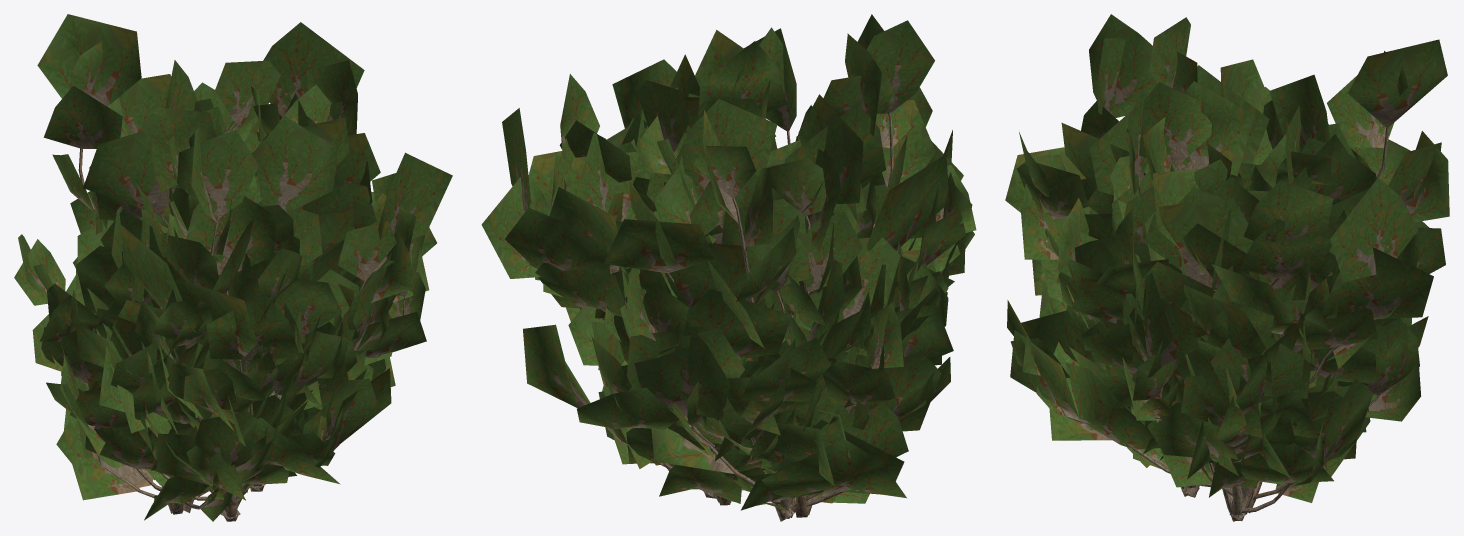
Rendered from lolipop_bush_big_1k.gltf.
3 renders of one model, left to right at view 1: azimuth 30°, elevation 25°; view 2: azimuth 150°, elevation 25°; view 3: azimuth 270°, elevation 25°, orthographic. The views are drawn at different scales.
Visible parts, largest first — view 1: Bush_big_002__LOD0, Bush_big_004__LOD0, Bush_big_005__LOD0, Bush_big_001__LOD0, Bush_big_003__LOD0; view 2: Bush_big_004__LOD0, Bush_big_001__LOD0, Bush_big_002__LOD0, Bush_big_005__LOD0, Bush_big_003__LOD0; view 3: Bush_big_002__LOD0, Bush_big_005__LOD0, Bush_big_001__LOD0, Bush_big_004__LOD0, Bush_big_003__LOD0.
Part boxes in pixels (bbox=[...]): Bush_big_002__LOD0: bbox=[14, 14, 426, 492]; Bush_big_004__LOD0: bbox=[32, 93, 436, 521]; Bush_big_005__LOD0: bbox=[75, 22, 452, 491]; Bush_big_001__LOD0: bbox=[63, 60, 395, 520]; Bush_big_003__LOD0: bbox=[86, 122, 429, 521]; Bush_big_004__LOD0: bbox=[535, 14, 976, 521]; Bush_big_001__LOD0: bbox=[529, 33, 953, 517]; Bush_big_002__LOD0: bbox=[557, 28, 912, 505]; Bush_big_005__LOD0: bbox=[481, 27, 963, 498]; Bush_big_003__LOD0: bbox=[606, 93, 974, 470]; Bush_big_002__LOD0: bbox=[1007, 39, 1447, 514]; Bush_big_005__LOD0: bbox=[1021, 74, 1433, 521]; Bush_big_001__LOD0: bbox=[1005, 17, 1449, 416]; Bush_big_004__LOD0: bbox=[1047, 14, 1406, 481]; Bush_big_003__LOD0: bbox=[1021, 110, 1445, 497].
Size of what is drawn, in the model's own units: 1.56 by 1.68 by 1.52.
2 materials, 2 textured.
